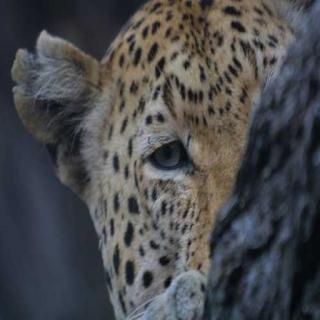Leopard: (3, 0, 300, 320)
